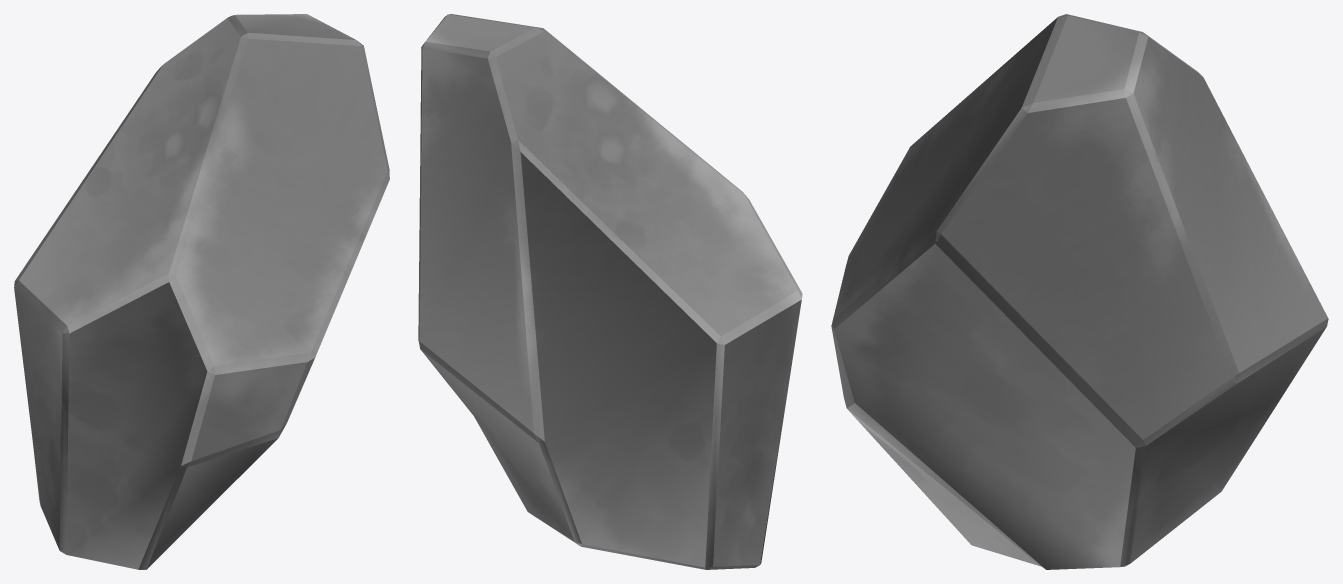
File: Stone_2_LowPoly.FBX
3 renders of one model, left to right at view 1: azimuth 30°, elevation 25°; view 2: azimuth 150°, elevation 25°; view 3: azimuth 270°, elevation 25°, orthographic. The views are drawn at different scales.
Parts seen in each view (by area): view 1: Rock2; view 2: Rock2; view 3: Rock2.
Part boxes in pixels (x1=…): Rock2: x1=14, y1=14, x2=389, y2=569; Rock2: x1=418, y1=14, x2=802, y2=569; Rock2: x1=831, y1=14, x2=1328, y2=569.
Bounding box in the file's own units: 61 × 63.84 × 87.73.
1 material, 1 textured.
